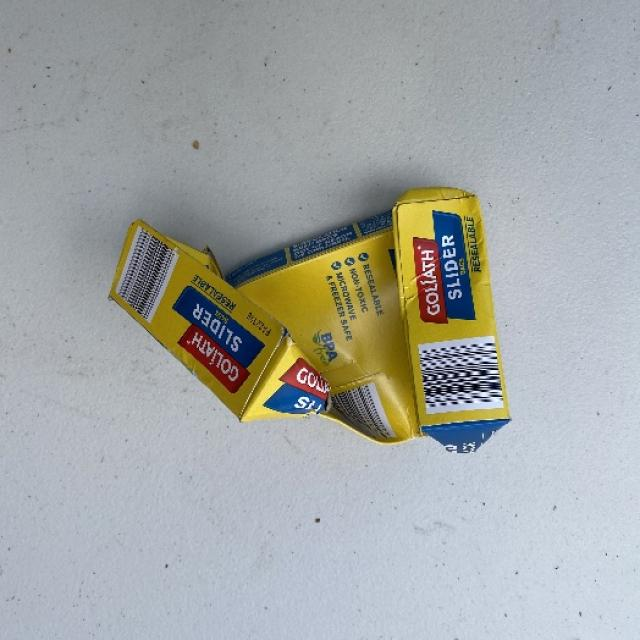kertas: (105, 187, 532, 484)
